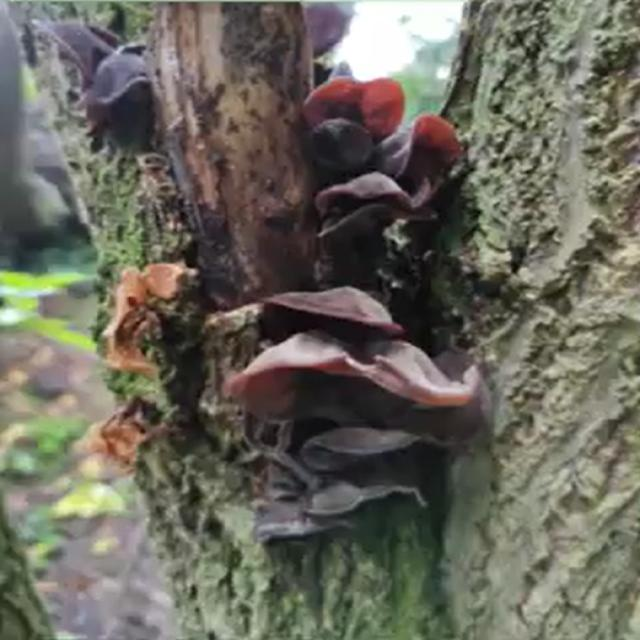Matang: (225, 95, 494, 562), (20, 13, 166, 145)
